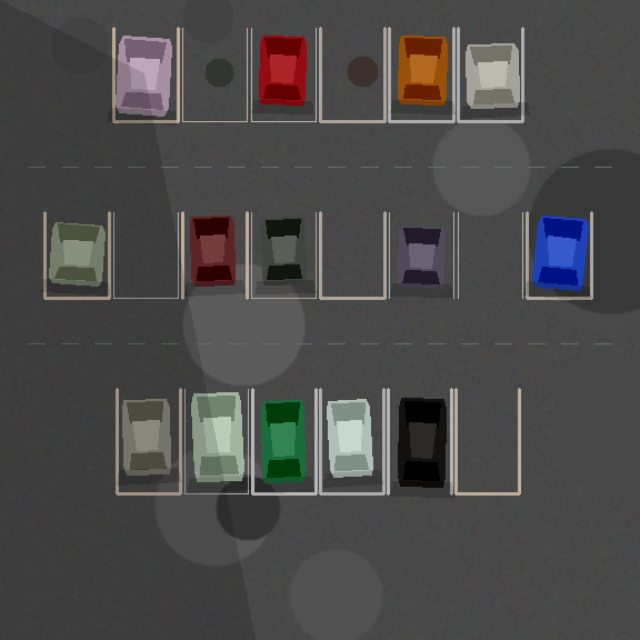space-empty: (456, 389, 519, 493), (182, 28, 247, 121), (320, 28, 384, 121), (113, 212, 178, 298), (320, 212, 384, 298), (458, 212, 522, 298)
space-occupied: (184, 389, 248, 493), (252, 389, 316, 493), (117, 389, 180, 493), (320, 389, 383, 493), (388, 389, 451, 493), (113, 28, 178, 121), (251, 28, 316, 121), (389, 28, 453, 121), (458, 28, 522, 121), (44, 212, 109, 298), (182, 212, 247, 298), (251, 212, 316, 298), (389, 212, 453, 298), (527, 212, 591, 298)
